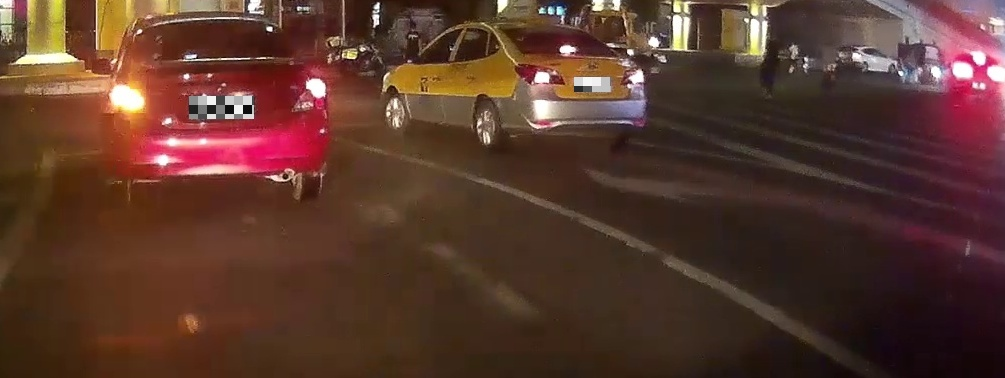L_light: (515, 63, 566, 86), (109, 84, 146, 112)
R_light: (290, 76, 328, 112), (621, 67, 645, 85)
T_light: (196, 19, 235, 26), (559, 45, 580, 54)
night-brake: (494, 21, 648, 147)
night-left: (104, 11, 330, 201)
plate_1: (189, 96, 254, 119)
plate_2: (574, 77, 611, 92)
